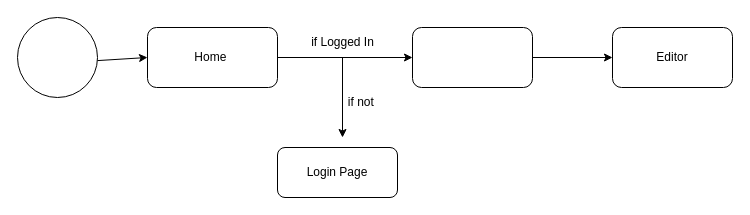
Some shapes in this 750 by 215 pixel diagram are drawn without their labels. Here are the shapes that lost their labels. From the top down, the centre of each, then its label:
At point (57, 57): "user".
At point (472, 57): "Dashboard".
